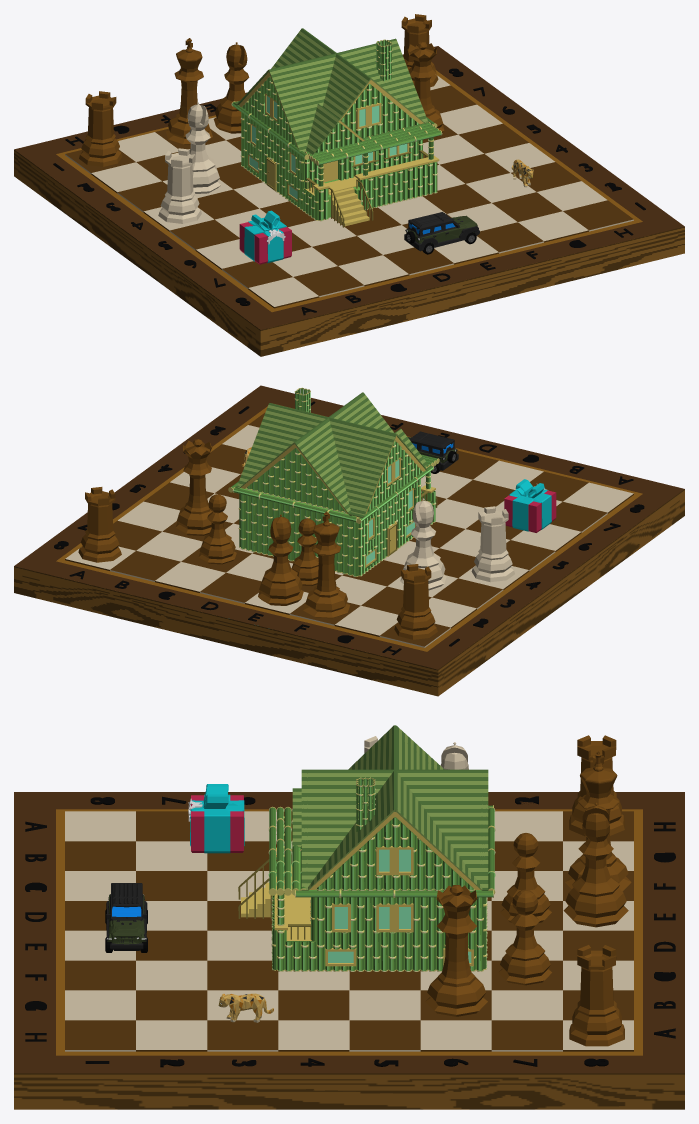
The picture shows the model from 3 angles, top to bottom: view 1: azimuth 30°, elevation 25°; view 2: azimuth 150°, elevation 25°; view 3: azimuth 270°, elevation 25°; orthographic projection. The views are drawn at different scales.
Visible parts, largest first — view 1: Cube.002, Cube.1327, OBJRANDOM_GIANT_PRESENT, VEHICLES_JEEP; view 2: Cube.002, Cube.1327, OBJRANDOM_GIANT_PRESENT, VEHICLES_JEEP; view 3: Cube.002, Cube.1327, OBJRANDOM_GIANT_PRESENT, VEHICLES_JEEP, ANIMAL_JAGUAR.
Part boxes in pixels (x1=…): Cube.002: x1=14, y1=14, x2=684, y2=356; Cube.1327: x1=231, y1=28, x2=442, y2=227; OBJRANDOM_GIANT_PRESENT: x1=239, y1=210, x2=291, y2=264; VEHICLES_JEEP: x1=404, y1=212, x2=479, y2=254; Cube.002: x1=14, y1=385, x2=684, y2=696; Cube.1327: x1=228, y1=387, x2=439, y2=576; OBJRANDOM_GIANT_PRESENT: x1=504, y1=479, x2=556, y2=532; VEHICLES_JEEP: x1=408, y1=431, x2=458, y2=473; Cube.002: x1=14, y1=735, x2=684, y2=1109; Cube.1327: x1=238, y1=725, x2=495, y2=971; OBJRANDOM_GIANT_PRESENT: x1=188, y1=784, x2=244, y2=853; VEHICLES_JEEP: x1=105, y1=883, x2=147, y2=952; ANIMAL_JAGUAR: x1=218, y1=993, x2=273, y2=1022.
Bounding box in the file's own units: 3981 × 1471 × 4012.
35 materials, 3 textured.
